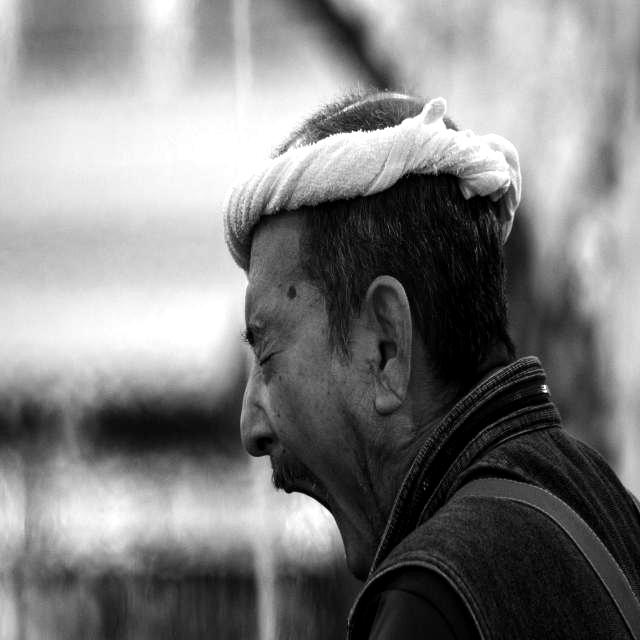no_hard_hat: (223, 97, 522, 257)
person: (241, 175, 640, 639)
